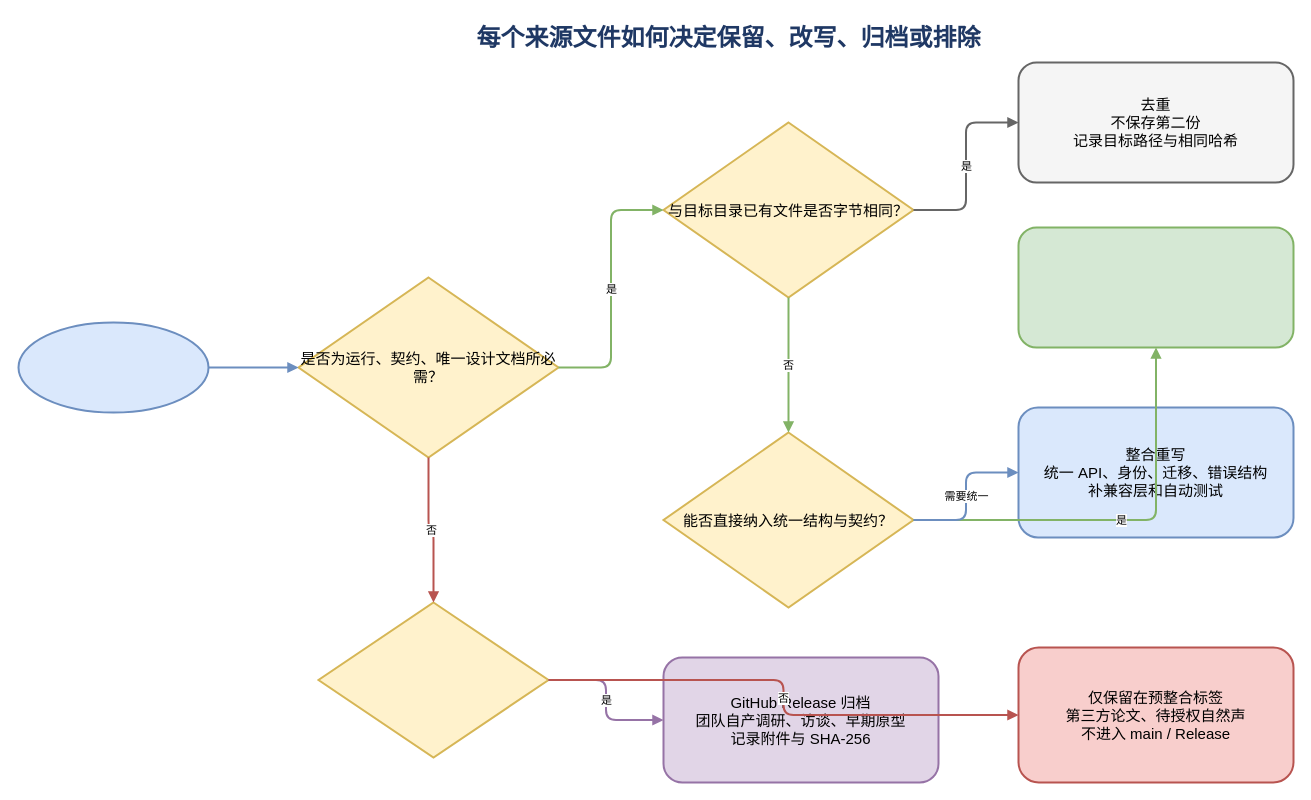
This 1311x800 diagram has some shape labels left out. The shapes that lost their labels are listed below. From the top down, each one's centre as x and y in pixels, then its label:
(x=1155, y=287): 保留 / 移动改名 纳入规范目录 必要时保持原 blob
(x=113, y=367): 来源分支文件
(x=433, y=679): 是否适合公开再分发？
